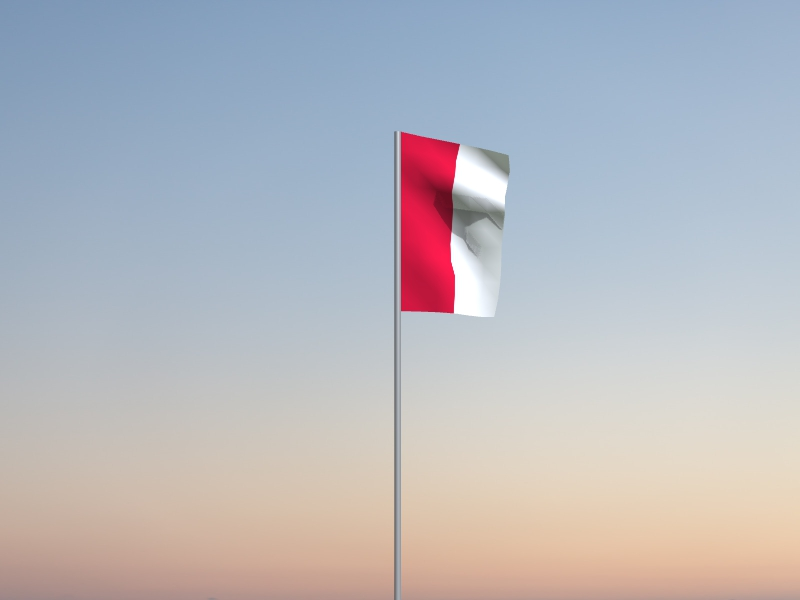pl: (402, 133, 511, 319)
